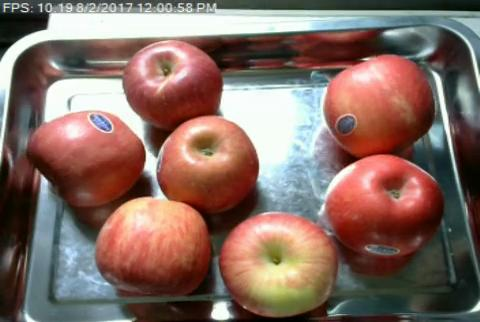apple: (323, 152, 445, 258), (219, 211, 337, 316), (95, 197, 211, 297), (323, 53, 435, 151), (27, 110, 144, 203), (155, 115, 259, 205), (122, 40, 221, 123)
